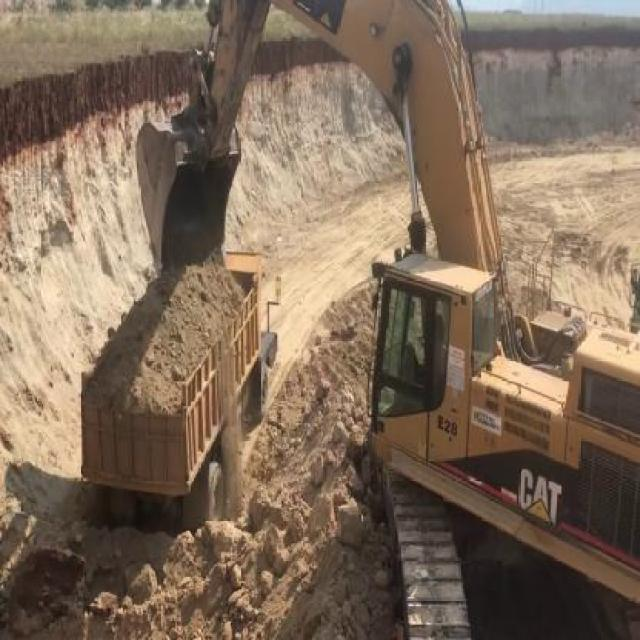dump_truck: (76, 233, 281, 515)
excavator: (129, 0, 638, 638)
